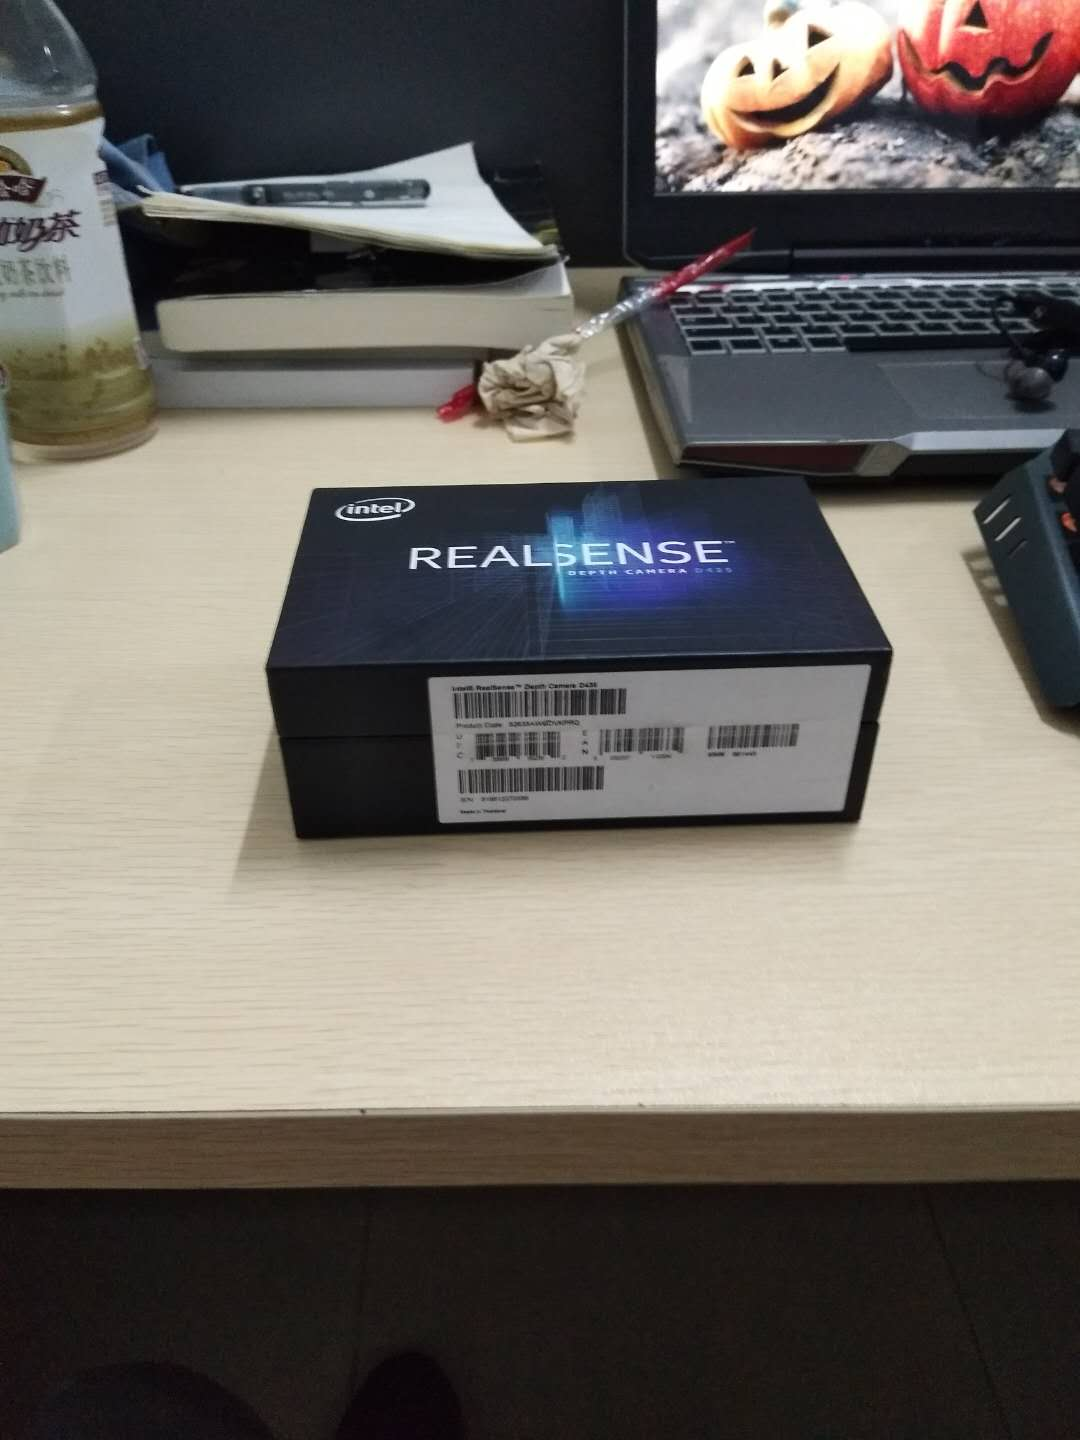box: (253, 477, 917, 850)
